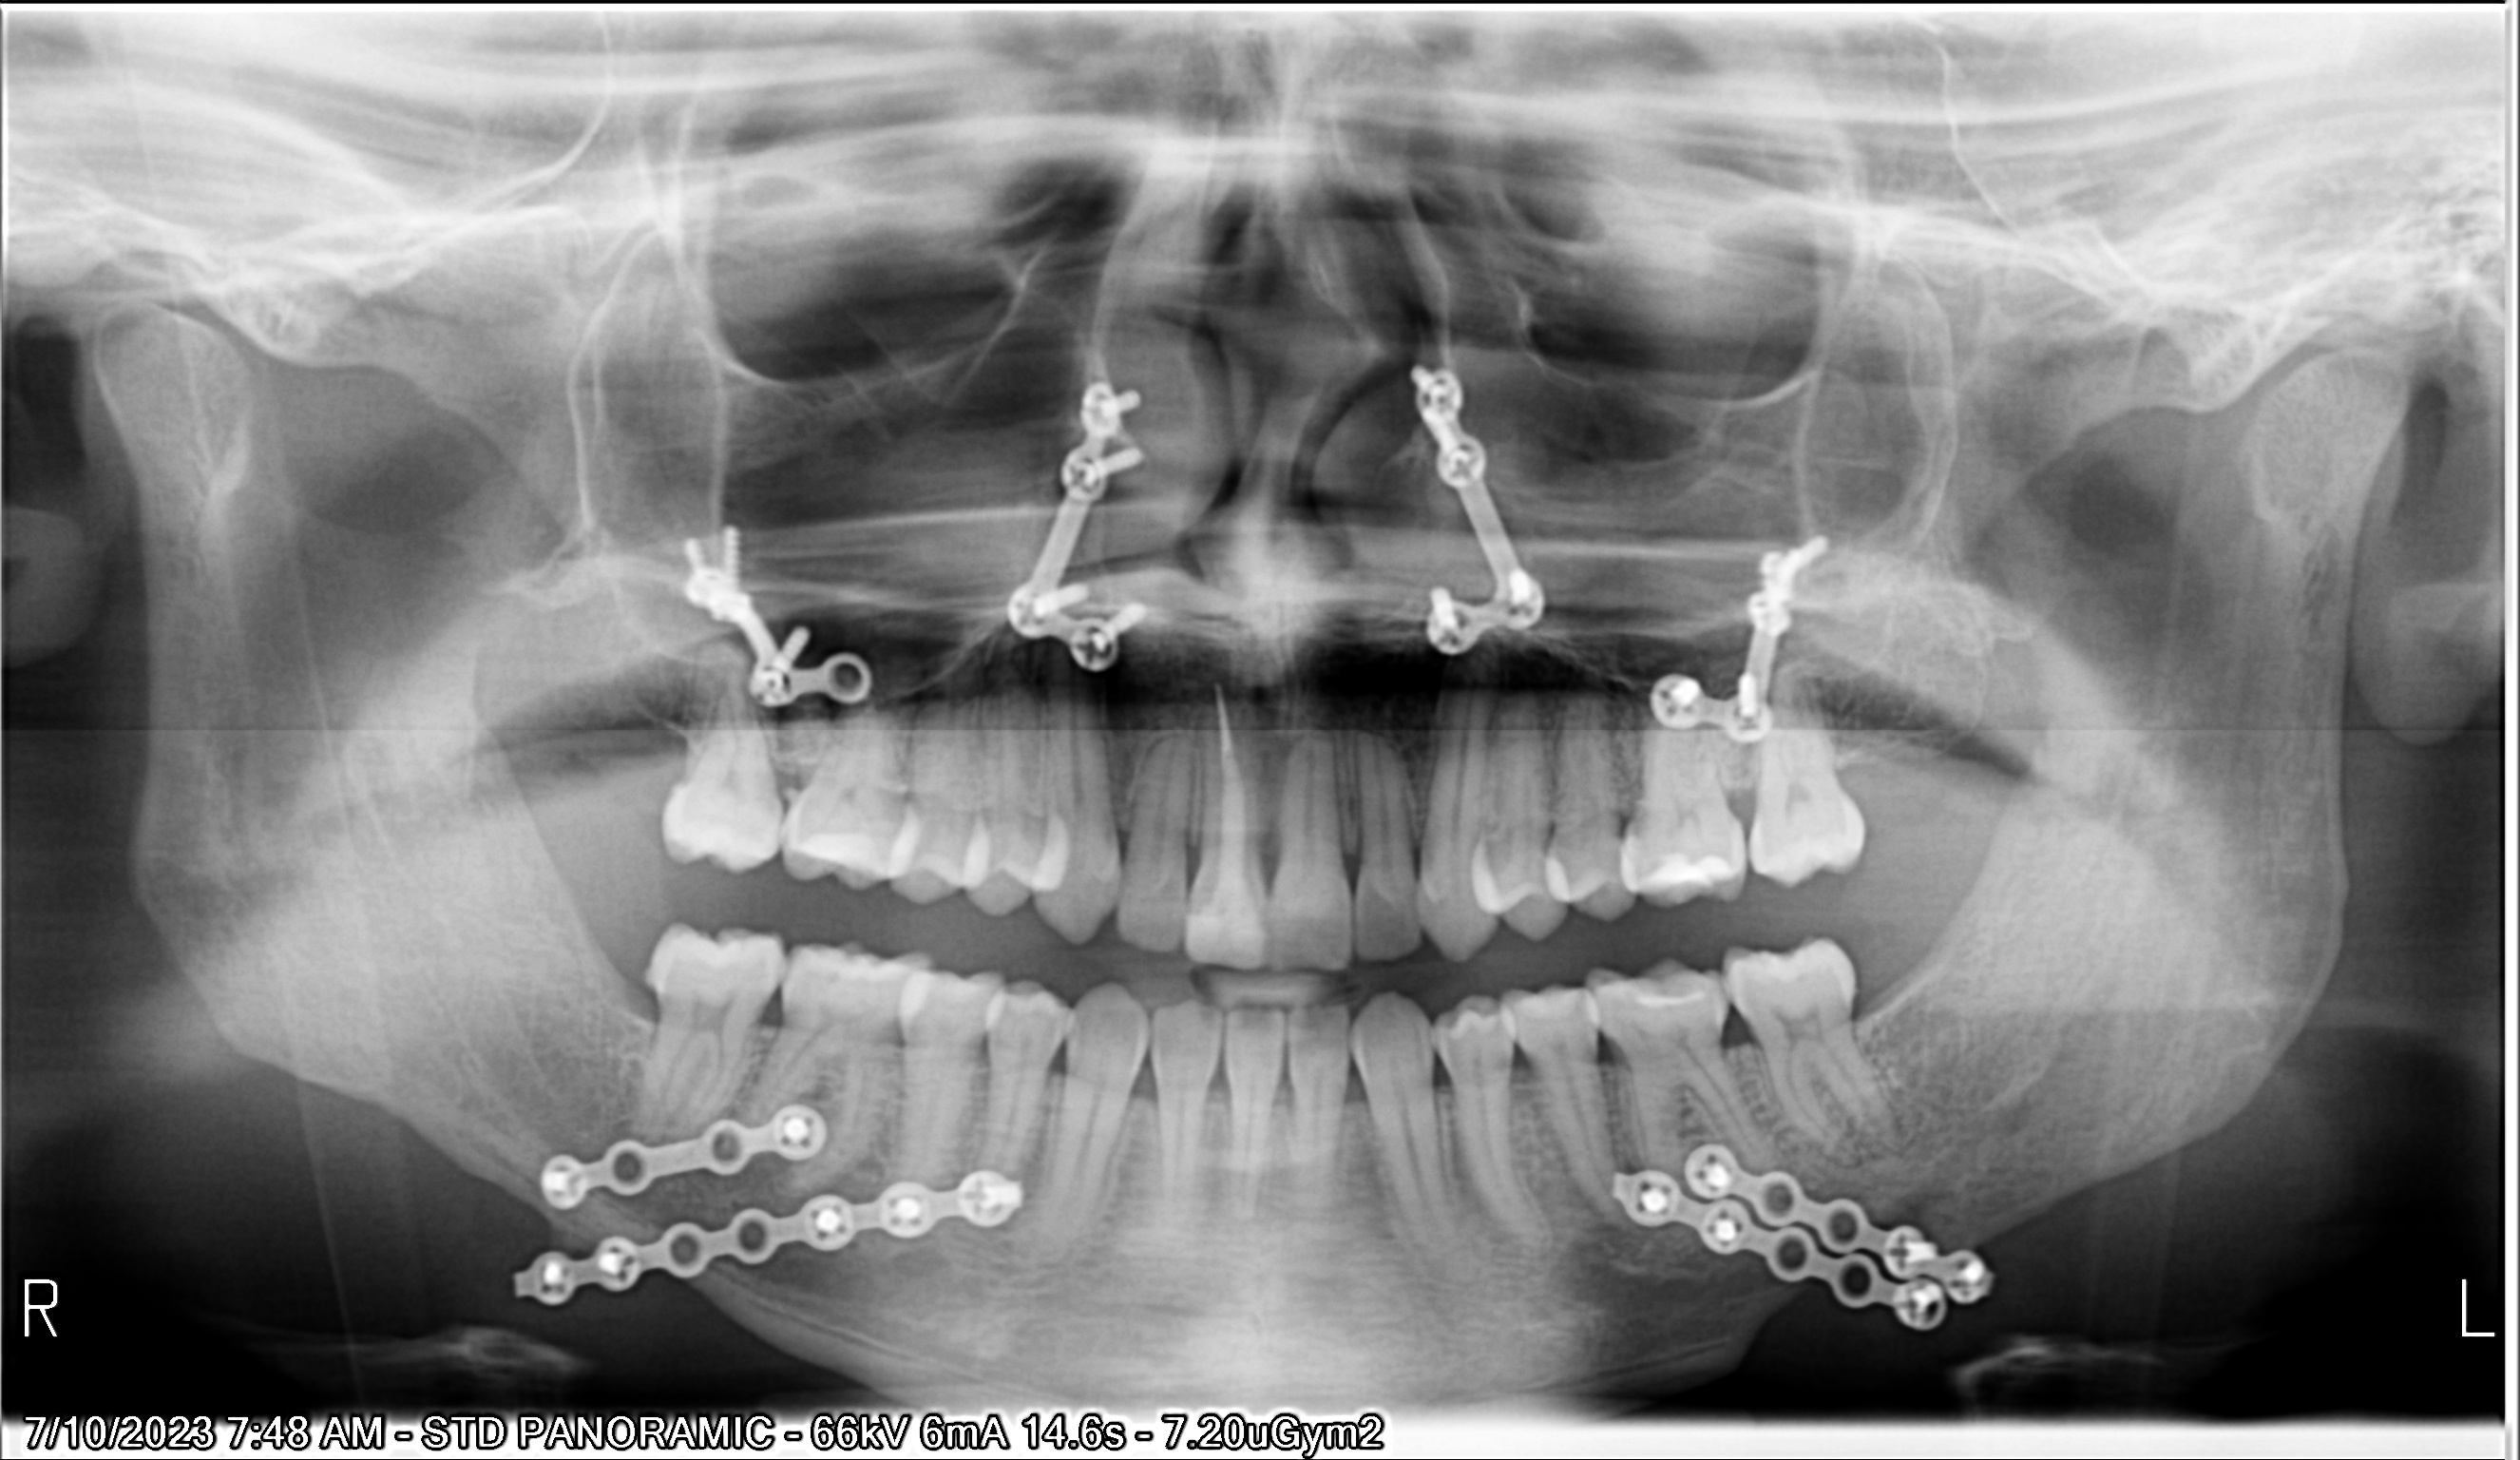END: (1162, 674, 1296, 860)
OBT: (1605, 843, 1789, 930), (1593, 985, 1718, 1027)
SRD: (491, 1086, 1035, 1324), (1582, 1125, 2067, 1384), (978, 335, 1198, 706), (1356, 325, 1575, 671), (625, 487, 924, 721), (1641, 499, 1870, 766)
